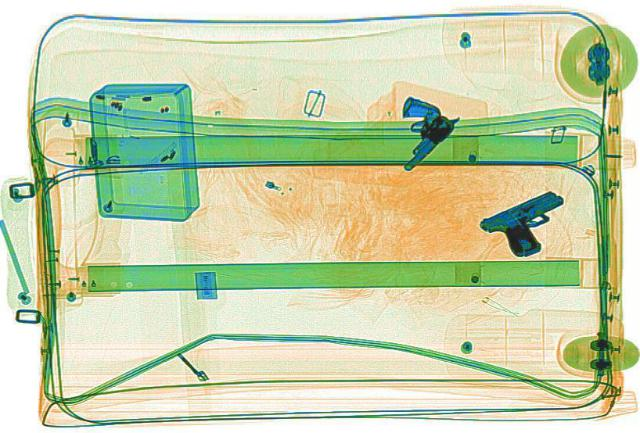Gun: (346, 91, 466, 172), (472, 187, 594, 258)
